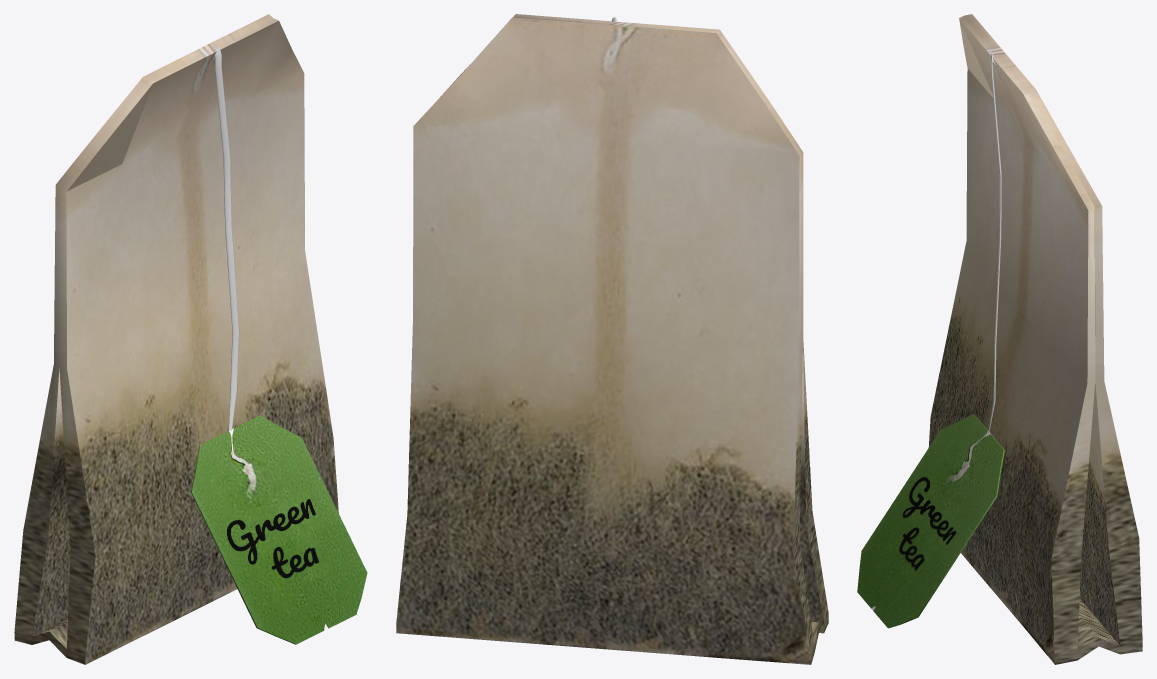
The model's file is Tea bag.fbx.
3 renders of one model, left to right at view 1: azimuth 30°, elevation 25°; view 2: azimuth 150°, elevation 25°; view 3: azimuth 270°, elevation 25°, orthographic. The views are drawn at different scales.
Parts seen in each view (by area): view 1: Tea bag; view 2: Tea bag; view 3: Tea bag.
Part boxes in pixels (x1=…): Tea bag: x1=14, y1=14, x2=367, y2=664; Tea bag: x1=396, y1=14, x2=828, y2=664; Tea bag: x1=857, y1=14, x2=1142, y2=664.
Size of the model in its own units: 3.25 by 4.94 by 2.37.
Materials: 1 (1 with a texture image).
